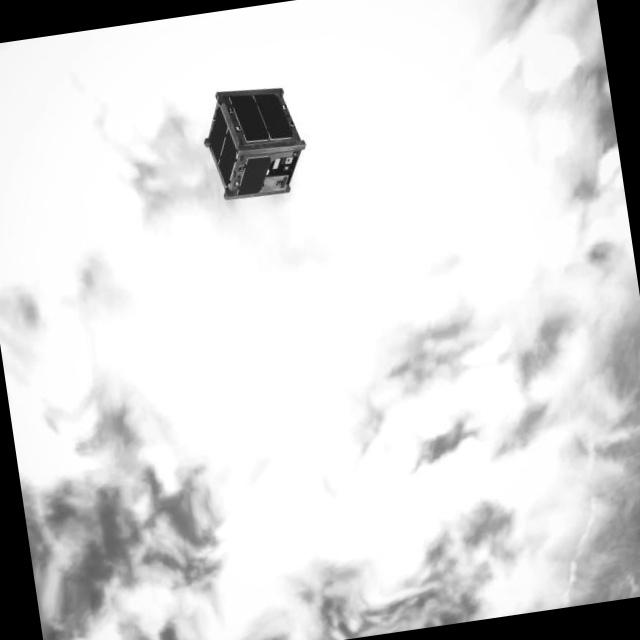medium_debris: (190, 79, 315, 215)
